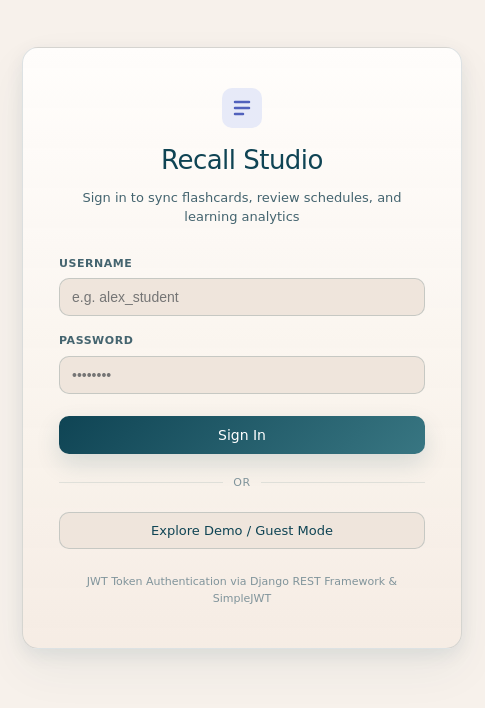
Test case: LoginPage Component › displays error banner when api.login rejects with invalid credentials
Type "wrong_user" into the field labelled "Username" at coordinates (242, 297), box 59,278 -> 425,316
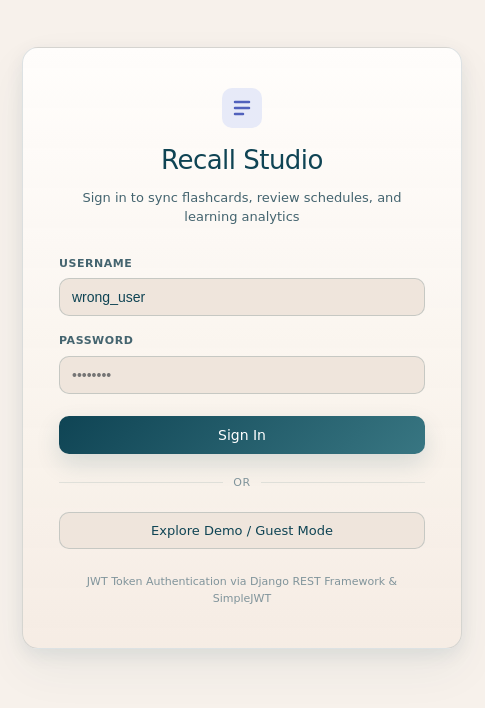
Type "wrong_pass" into the password field labelled "Password" at coordinates (242, 375), box 59,356 -> 425,394
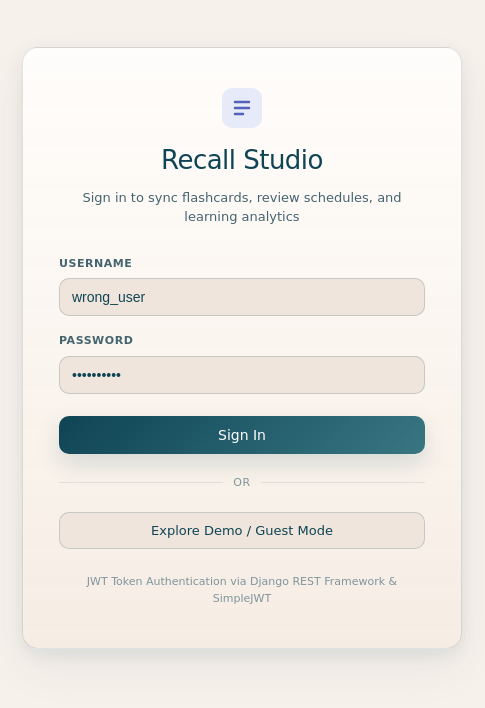
Click the button "Sign In" at coordinates (242, 435), box 59,416 -> 425,454
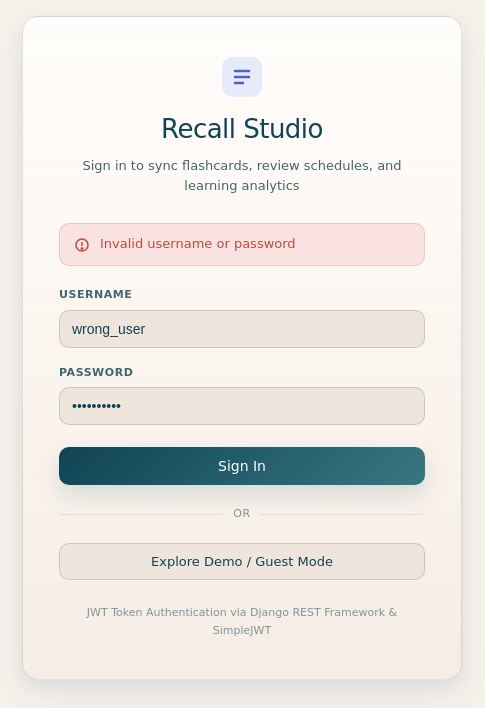
Result: the message reads "Invalid username or password" at 100,236 -> 296,251
